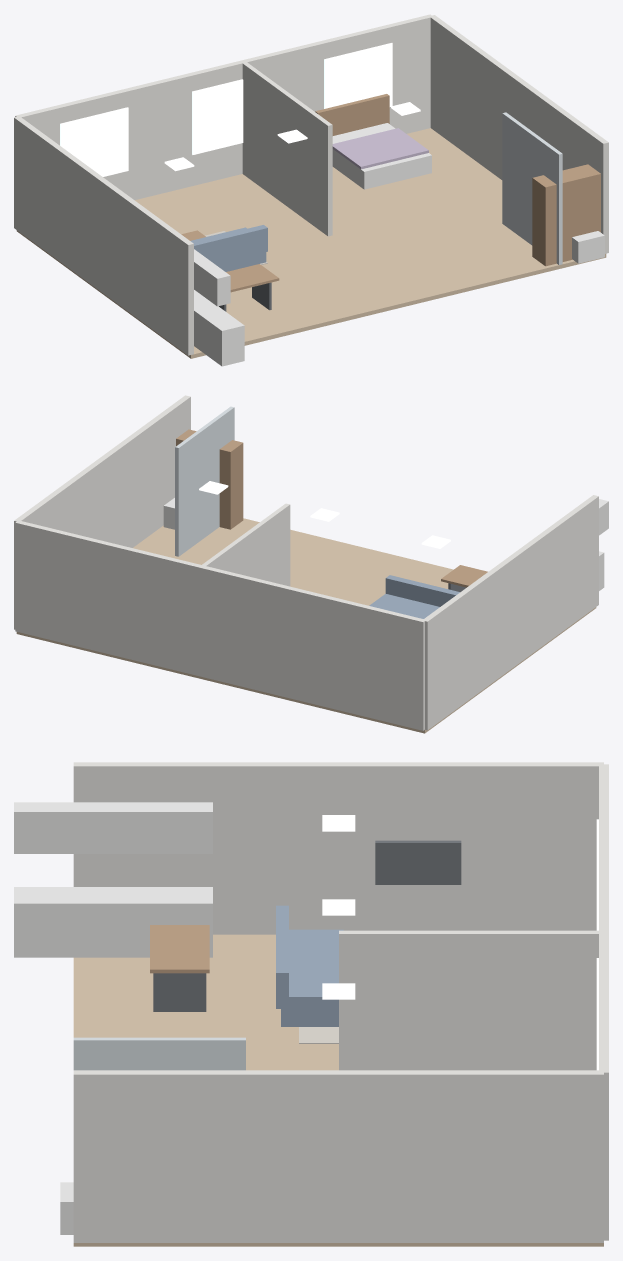
Rendered from interior-2.glb.
3 renders of one model, top to bottom at view 1: azimuth 30°, elevation 25°; view 2: azimuth 150°, elevation 25°; view 3: azimuth 270°, elevation 25°, orthographic. The views are drawn at different scales.
Bounding box in the file's own units: 11.15 × 2.9 × 8.97.
